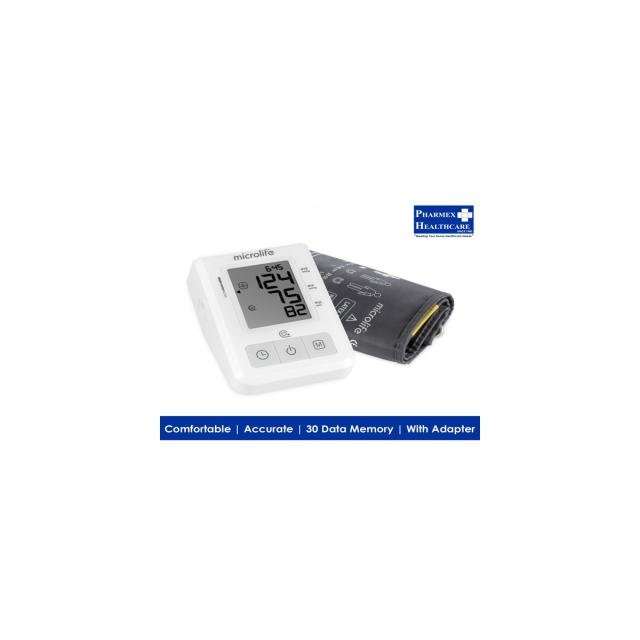dia: (266, 284, 306, 308)
pul: (280, 301, 309, 319)
ssd: (226, 257, 317, 333)
sys: (251, 267, 297, 292)
